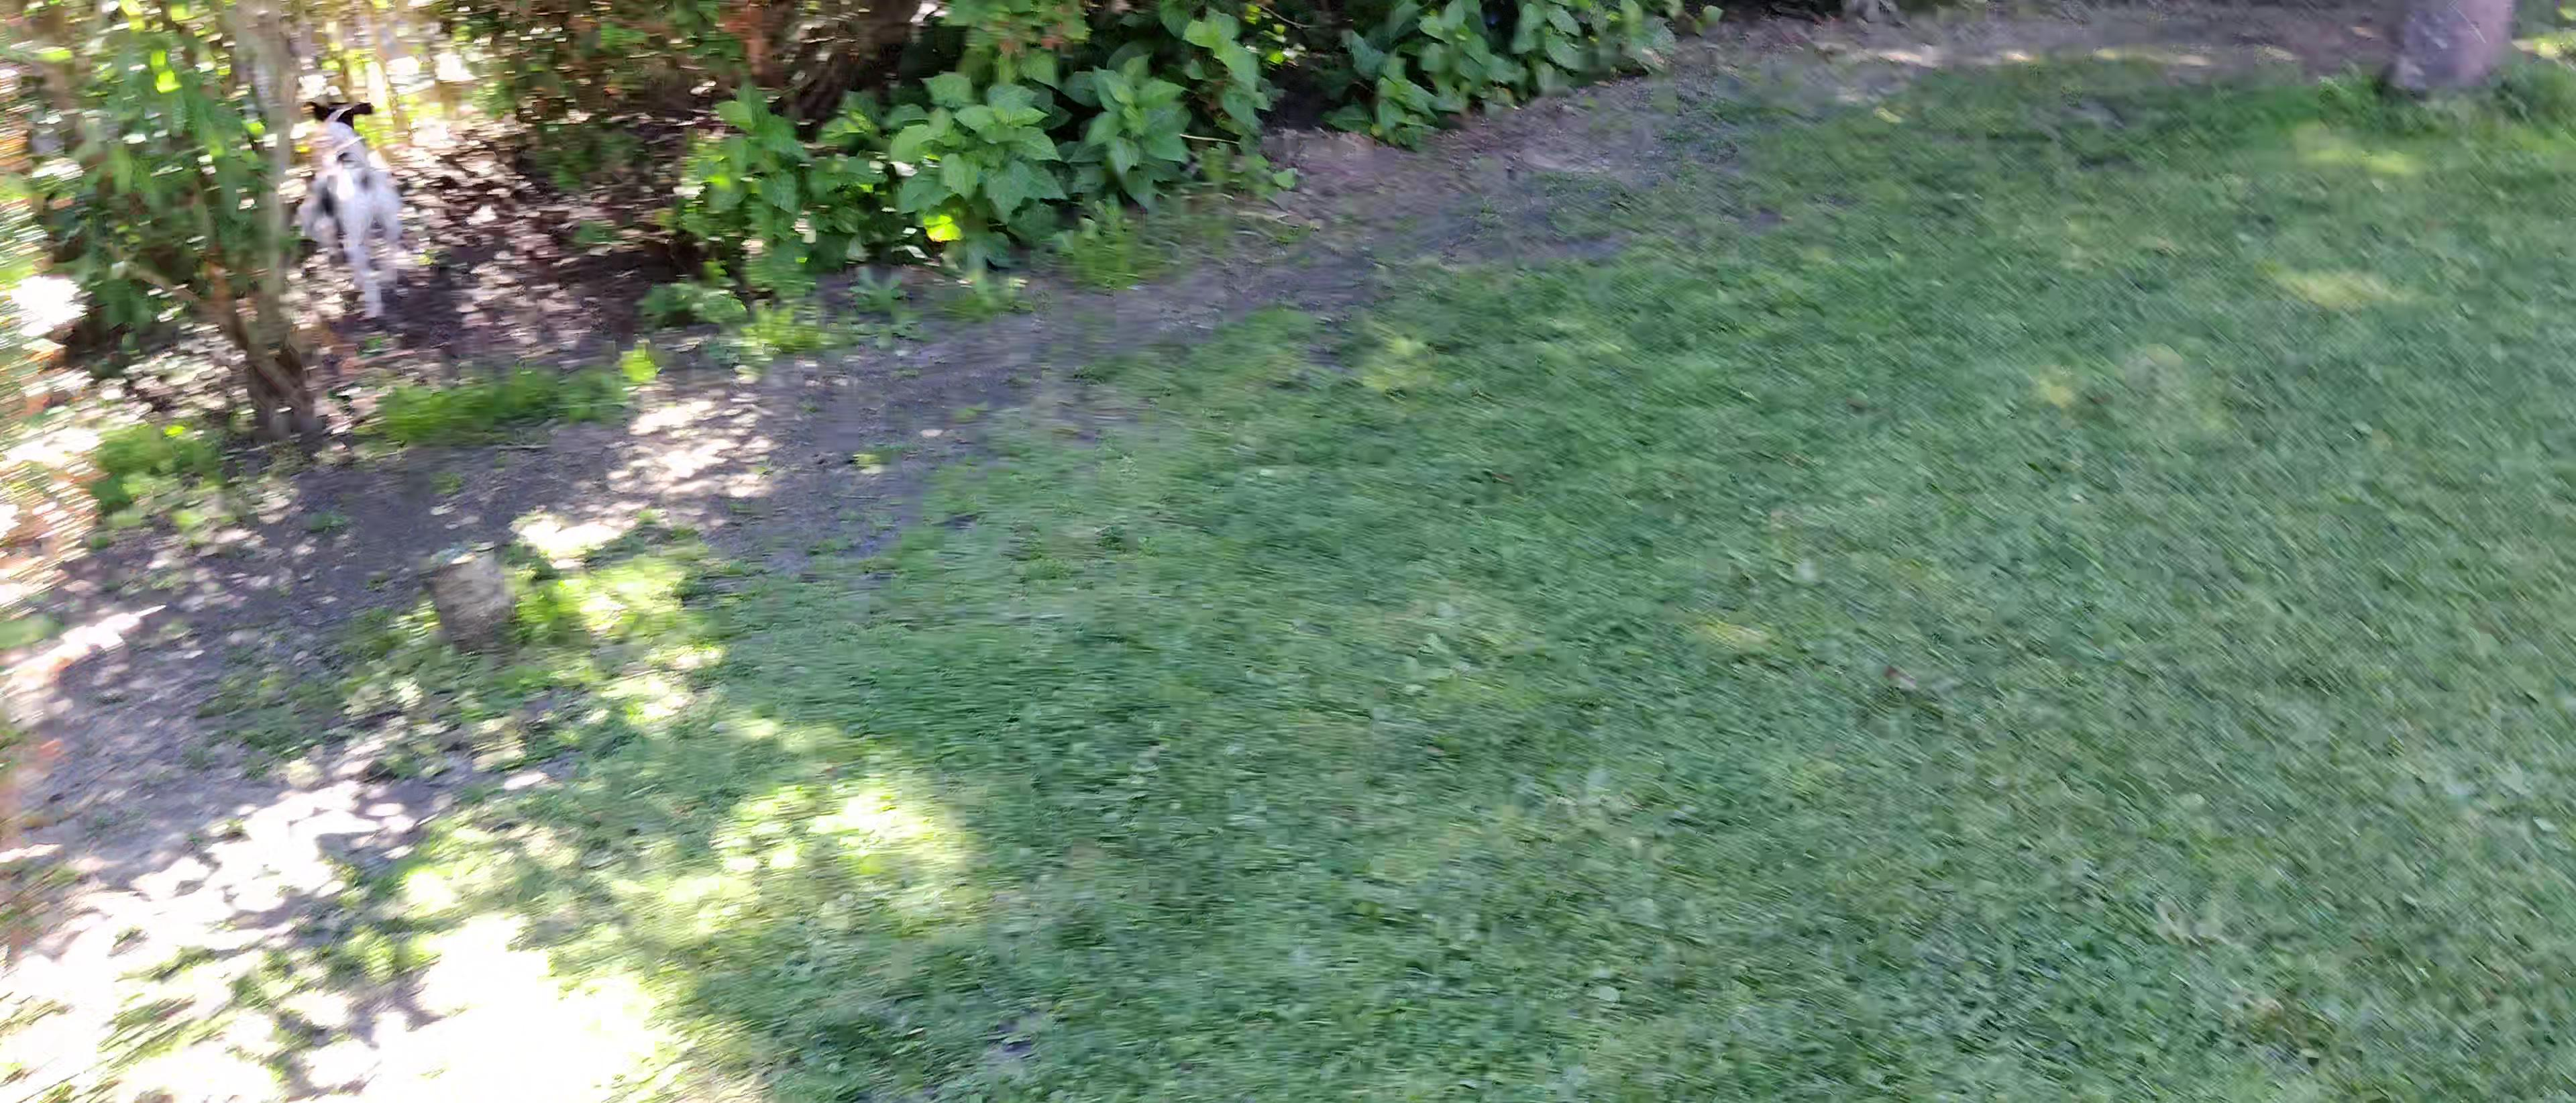Dog: (289, 82, 419, 327)
